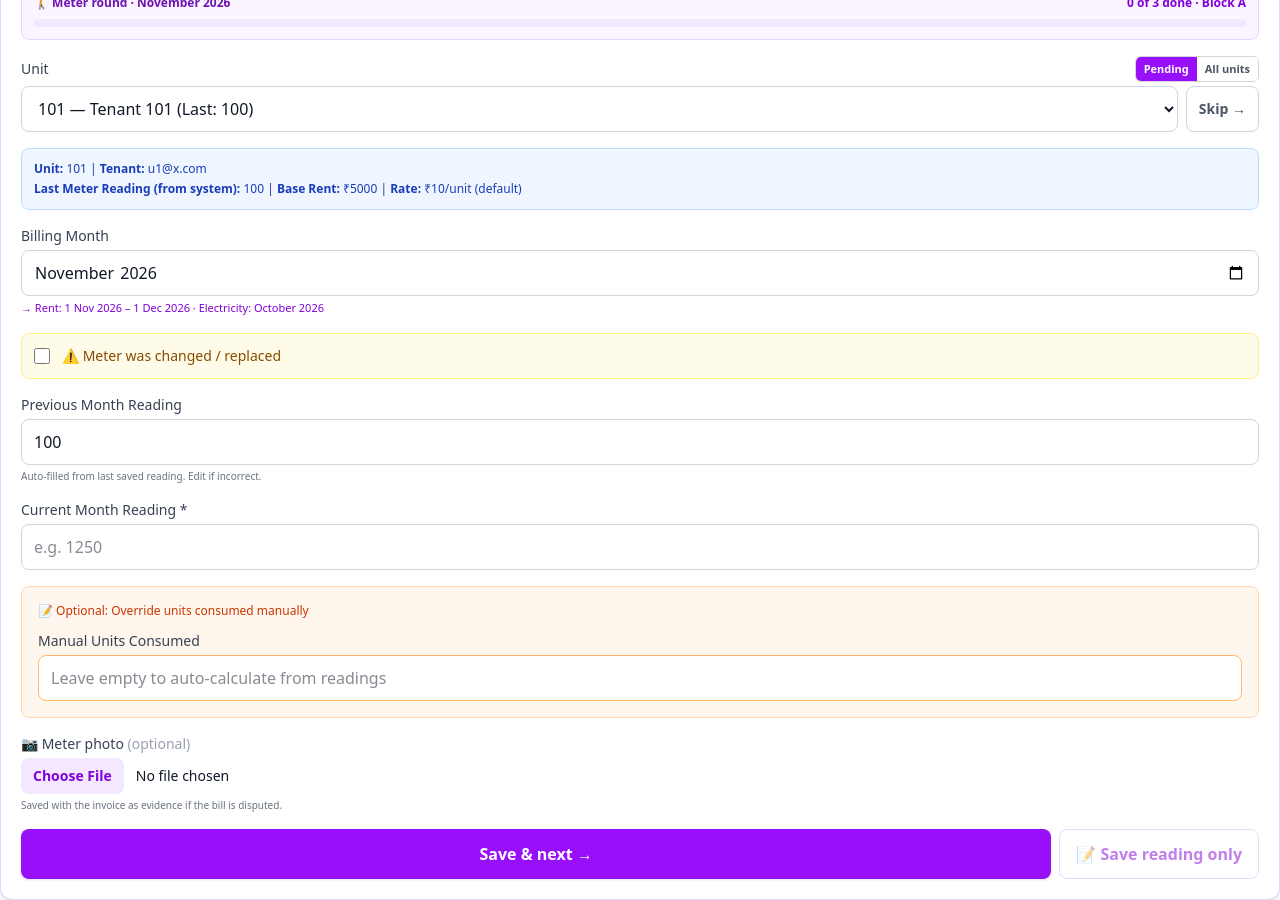
Test case: MeterTab — meter round › Save & next writes the invoice, shows a toast and moves to the next pending unit
(page scrolled)
Expected: the dropdown labelled "Unit" shows "101 — Tenant 101 (Last: 100)", [21, 86, 1178, 132]
Type "150" into the number field with placeholder "e.g. 1250" at point(640, 547), box [21, 524, 1259, 570]
(page scrolled)
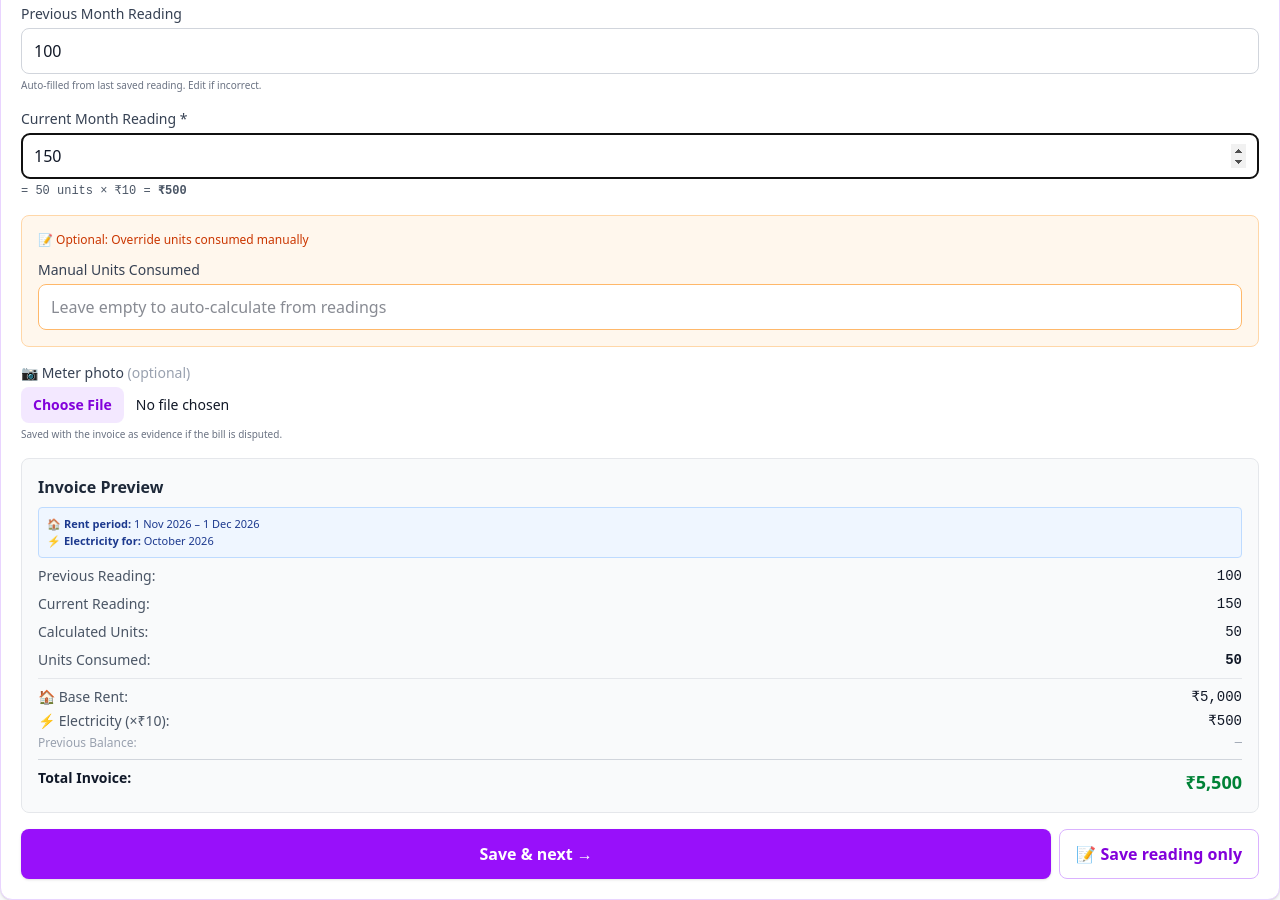
Click the button "Save & next →" at point(536, 854), box [21, 829, 1051, 879]
(page scrolled)
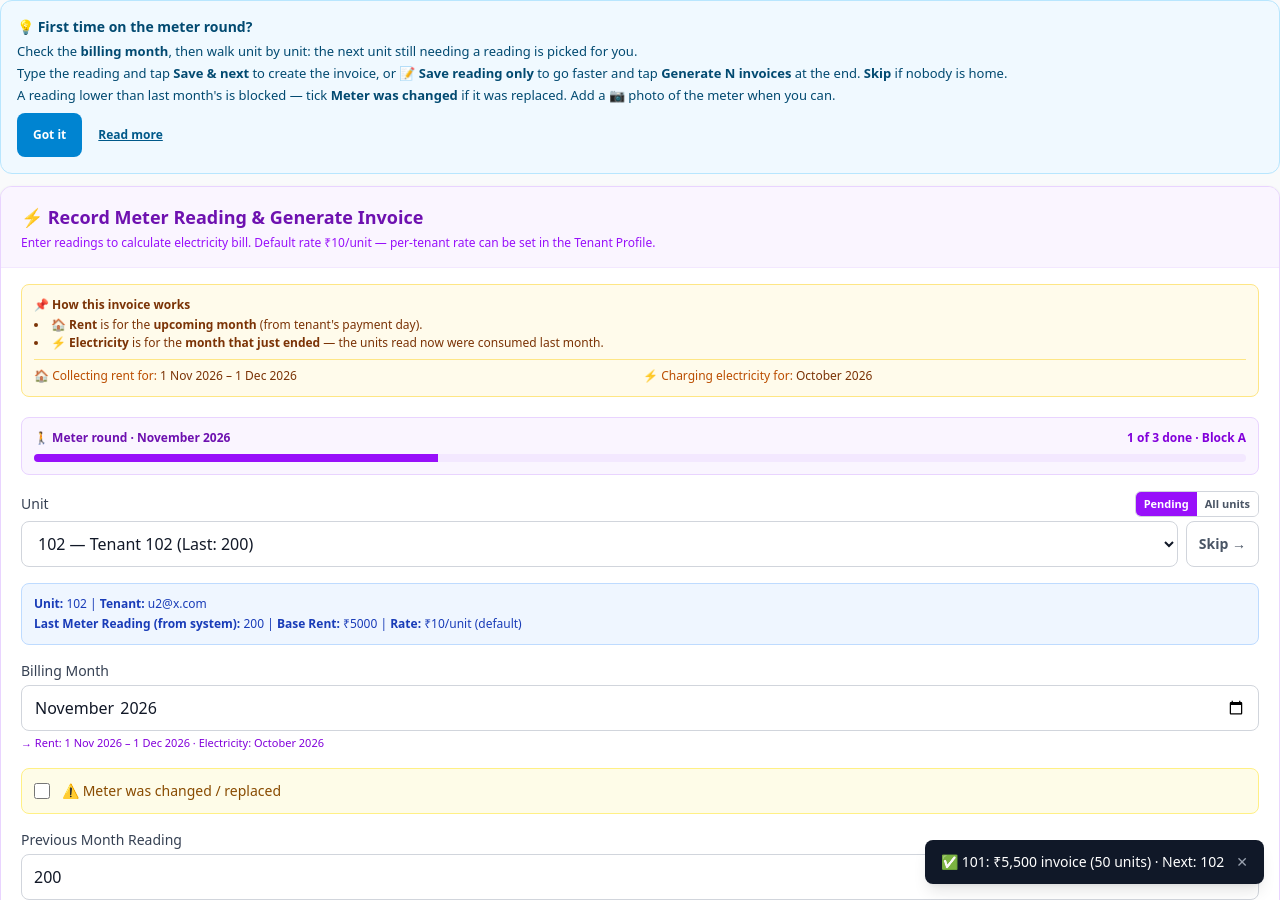
Result: the message shows "101: ₹5,500 invoice (50 units) · Next: 102" at [941, 852, 1224, 871]
Result: the dropdown labelled "Unit" shows "102 — Tenant 102 (Last: 200)" at [21, 521, 1178, 567]
Result: the text "1 of 3 done · Block A" is shown at [1127, 430, 1246, 446]
